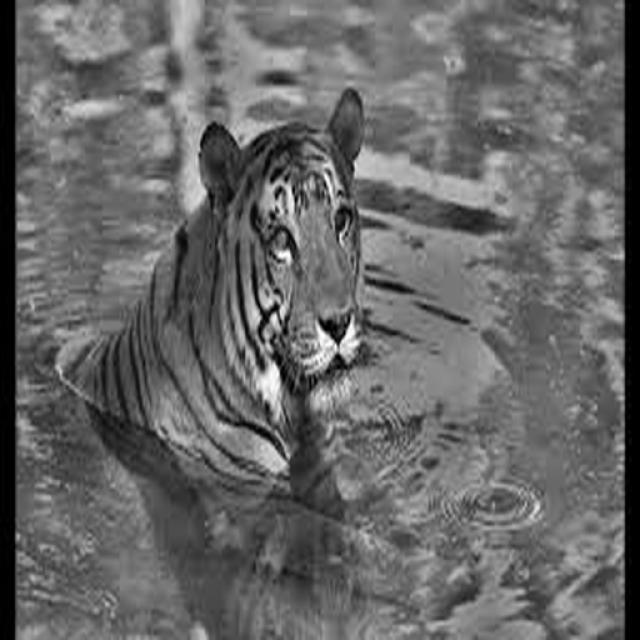Tiger: (54, 84, 461, 636)
